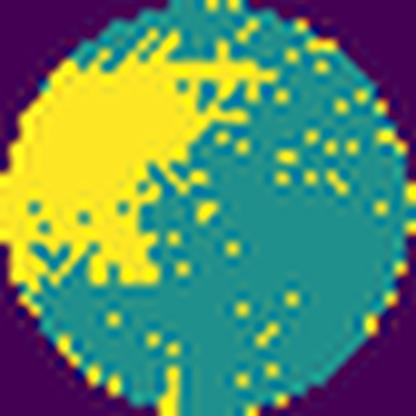Edge-Loc: (0, 29, 277, 287)
